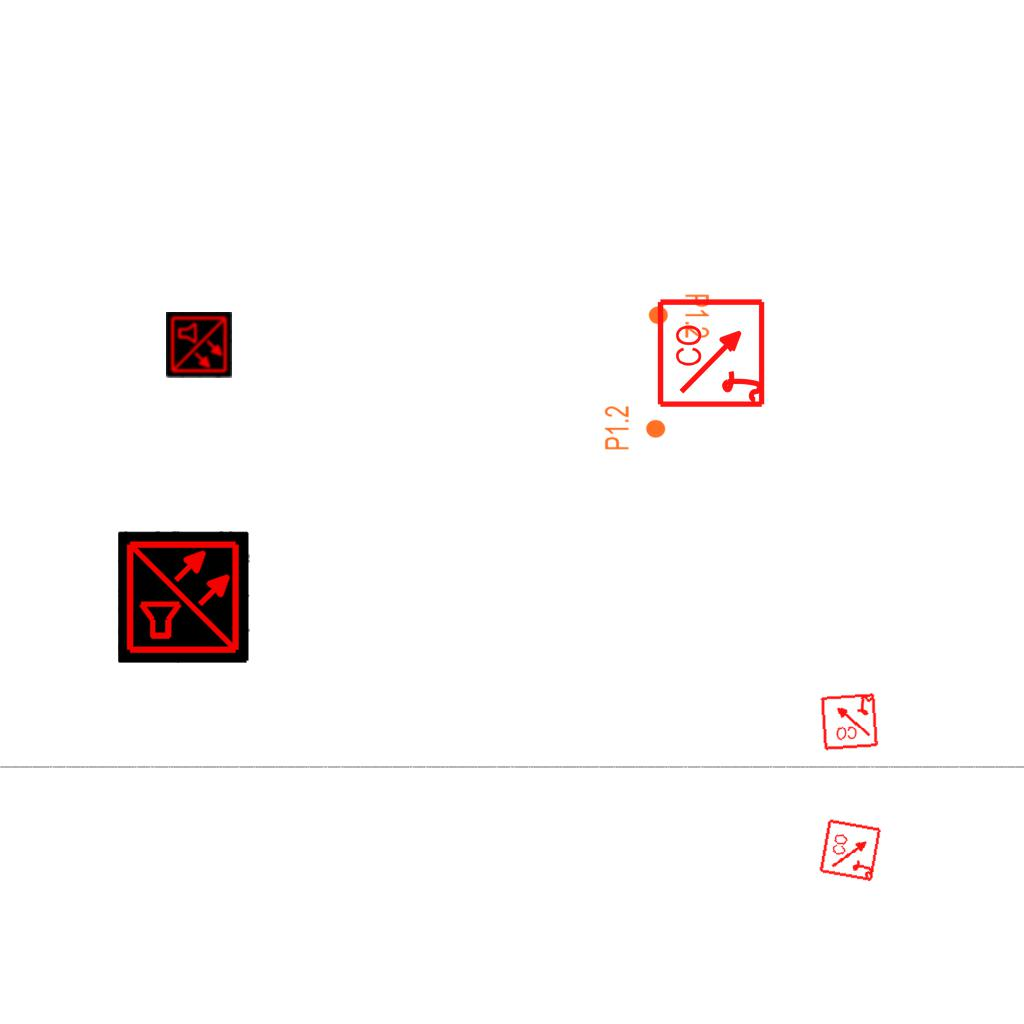Downlight_LED_Einbauleuchten_Flur: (603, 405, 667, 451), (647, 293, 711, 339)
OKW_Multisensormelder_(Kombination_optischer_Rauch-Kahlenmonoxid_Waerme-Melder): (118, 531, 250, 663), (166, 312, 232, 378)
ROA_Rauchmelder_optisch_mit_Signalgeber_(Sockelsirene): (656, 296, 769, 409), (818, 817, 884, 883), (819, 691, 879, 751)
